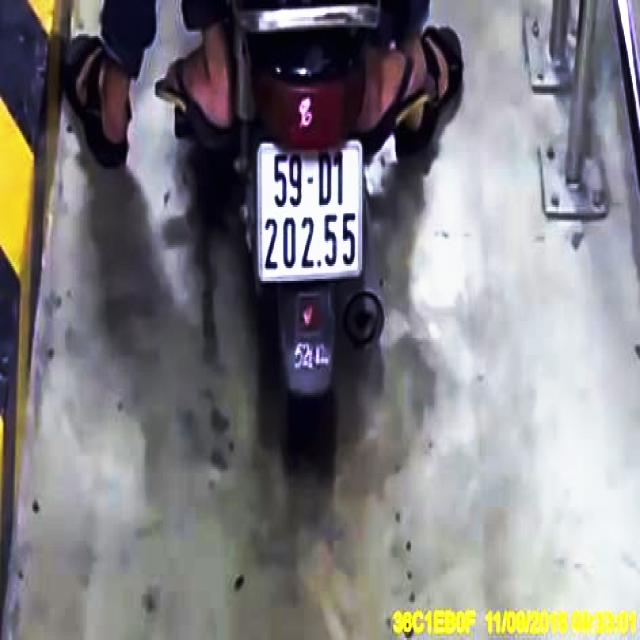license_plate: (259, 144, 366, 278)
